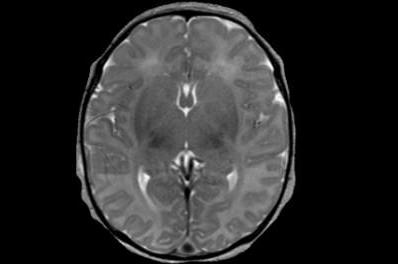Normal_Brain: (1, 1, 398, 264)
